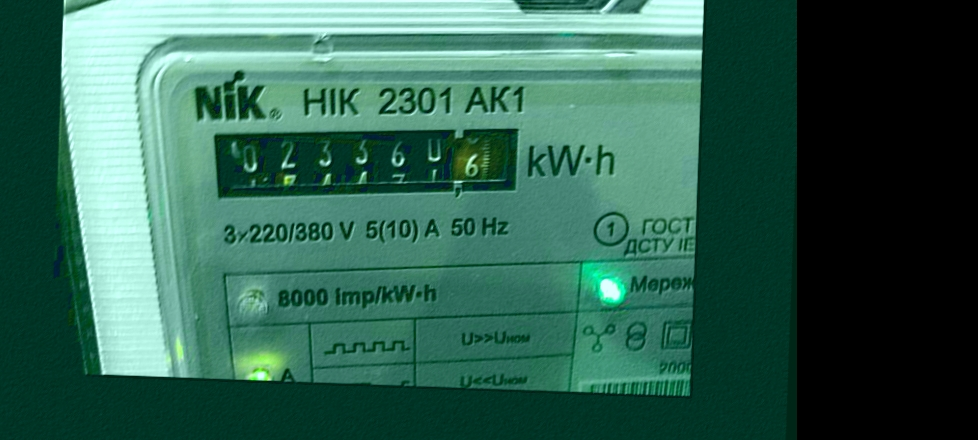0: (240, 140, 263, 175), (423, 133, 446, 165)
2: (279, 137, 300, 170)
3: (353, 132, 373, 166), (315, 137, 335, 169)
6: (463, 147, 485, 181), (388, 136, 410, 169)
screen: (197, 108, 538, 215)
